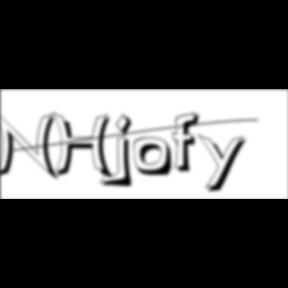H: (52, 112, 118, 182)
N: (0, 109, 64, 183)
f: (172, 111, 206, 175)
j: (112, 113, 140, 191)
o: (134, 137, 176, 179)
y: (198, 132, 252, 196)
